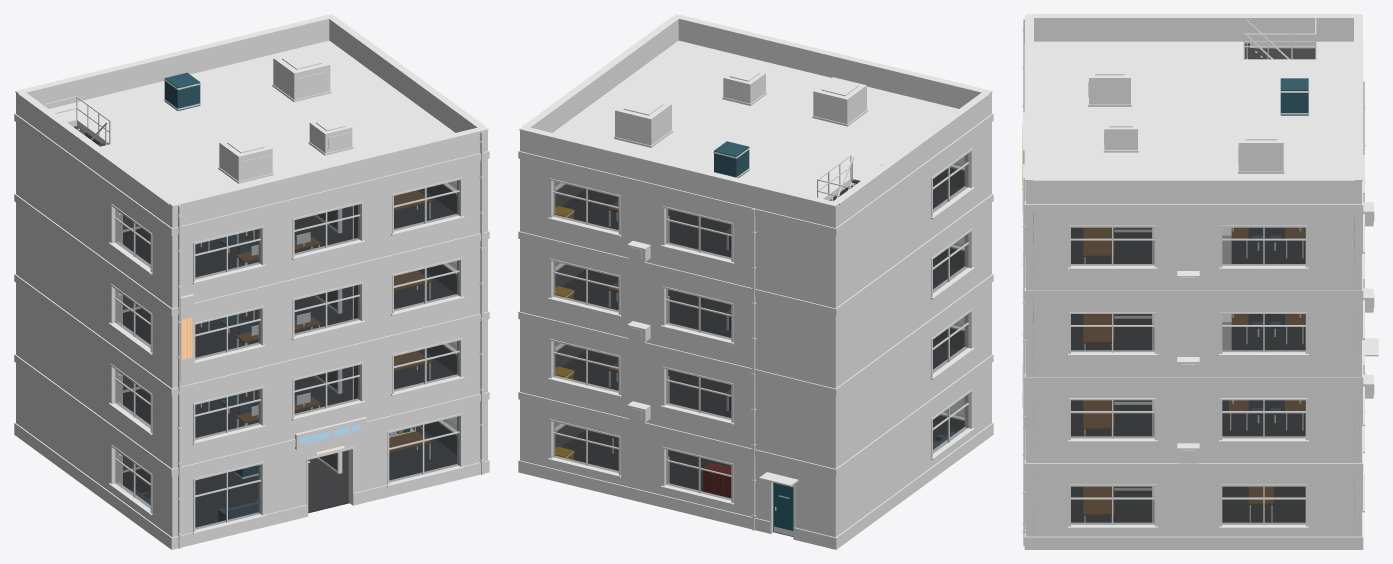
File: house_office.glb
3 renders of one model, left to right at view 1: azimuth 30°, elevation 25°; view 2: azimuth 150°, elevation 25°; view 3: azimuth 270°, elevation 25°, orthographic. The views are drawn at different scales.
Parts seen in each view (by area): view 1: office_concrete, office_concrete_dark, office_gunmetal, office_pane, office_floor, office_dark, office_titan, office_plaster, office_wood, office_fabric, office_paint_teal; view 2: office_concrete, office_concrete_dark, office_gunmetal, office_pane, office_floor, office_titan, office_plaster, office_dark, office_paint_teal, door_0_door_teal, office_paint_red, office_paint_yellow; view 3: office_concrete, office_concrete_dark, office_pane, office_gunmetal, office_floor, office_titan, office_wood, office_dark, office_plaster, office_paint_teal, office_fabric.
Boxes of the visible parts, x1,y1,x2,y2 form: office_concrete: (16, 20, 487, 537); office_concrete_dark: (14, 40, 489, 549); office_gunmetal: (15, 14, 488, 548); office_pane: (115, 180, 458, 529); office_floor: (123, 189, 456, 527); office_dark: (123, 52, 484, 535); office_titan: (219, 49, 396, 436); office_plaster: (73, 126, 456, 470); office_wood: (235, 190, 431, 452); office_fabric: (130, 234, 258, 521); office_paint_teal: (164, 72, 410, 476); office_concrete: (520, 20, 991, 537); office_concrete_dark: (518, 40, 993, 549); office_gunmetal: (519, 14, 992, 533); office_pane: (553, 154, 967, 500); office_floor: (562, 183, 959, 491); office_titan: (615, 66, 866, 422); office_plaster: (555, 167, 964, 447); office_dark: (565, 68, 858, 517); office_paint_teal: (714, 141, 749, 178); door_0_door_teal: (773, 482, 793, 536); office_paint_red: (703, 463, 731, 498); office_paint_yellow: (555, 206, 573, 459); office_concrete: (1026, 19, 1361, 536); office_concrete_dark: (1024, 38, 1363, 549); office_pane: (1071, 228, 1305, 524); office_gunmetal: (1023, 14, 1378, 546); office_floor: (1071, 227, 1305, 522); office_titan: (1089, 60, 1373, 462); office_wood: (1083, 227, 1304, 515); office_dark: (1022, 28, 1374, 531); office_plaster: (1033, 48, 1354, 532); office_paint_teal: (1280, 78, 1308, 115); office_fabric: (1252, 227, 1281, 414).
Bounding box in the file's own units: 14.55 × 15.03 × 12.74.
